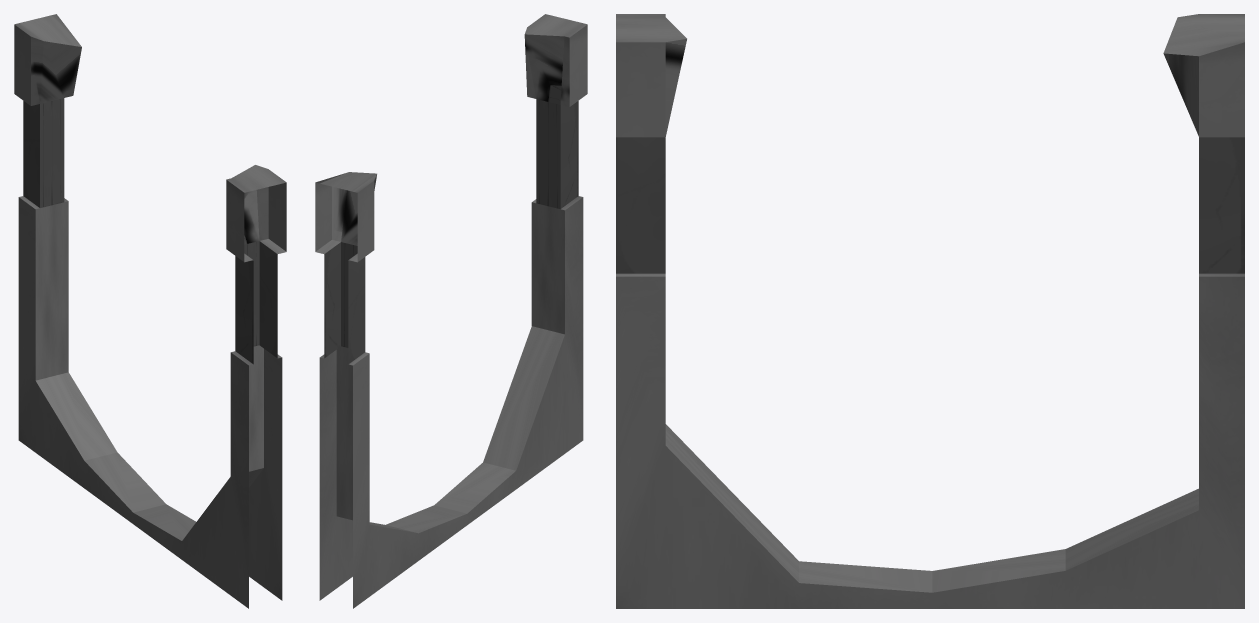
The model's file is MS_murdeberlinCassé.fbx.
The picture shows the model from 3 angles, left to right: view 1: azimuth 30°, elevation 25°; view 2: azimuth 150°, elevation 25°; view 3: azimuth 270°, elevation 25°; orthographic projection. The views are drawn at different scales.
Visible parts, largest first — view 1: Cube.038; view 2: Cube.038; view 3: Cube.038.
Part boxes in pixels (box(x1,y1,x2,y2)): Cube.038: box(14, 14, 286, 608); Cube.038: box(315, 14, 587, 608); Cube.038: box(616, 14, 1244, 608).
Bounding box in the file's own units: 128 × 1200 × 1200.
